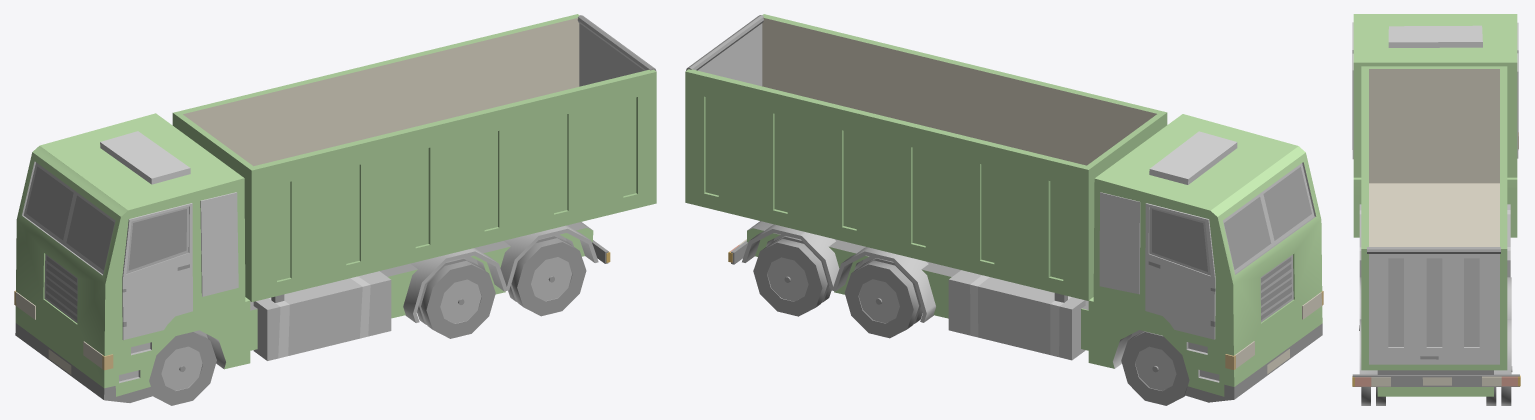
The model's file is kar9.fbx.
3 renders of one model, left to right at view 1: azimuth 30°, elevation 25°; view 2: azimuth 150°, elevation 25°; view 3: azimuth 270°, elevation 25°, orthographic. The views are drawn at different scales.
Parts seen in each view (by area): view 1: Boole, Extrude_1, Cylinder_4, Cylinder_3, Cylinder_1, Boole_2; view 2: Boole, Extrude_2, Cylinder_5, Cylinder, Cylinder_2, Boole_2; view 3: Boole, Boole_2, Cylinder, Cylinder_3.
Part boxes in pixels (box(x1,y1,x2,y2)): Boole: box(14, 14, 656, 402); Extrude_1: box(122, 203, 192, 340); Cylinder_4: box(417, 258, 495, 338); Cylinder_3: box(508, 235, 586, 316); Cylinder_1: box(149, 331, 216, 405); Boole_2: box(577, 15, 656, 86); Boole: box(685, 14, 1323, 402); Extrude_2: box(1145, 203, 1215, 339); Cylinder_5: box(844, 258, 922, 338); Cylinder: box(753, 235, 831, 316); Cylinder_2: box(1121, 331, 1189, 405); Boole_2: box(686, 15, 763, 86); Boole: box(1352, 14, 1520, 396); Boole_2: box(1367, 247, 1500, 364); Cylinder: box(1486, 366, 1512, 405); Cylinder_3: box(1361, 387, 1385, 405).
Size of the model in its own units: 890 by 333 by 251.
